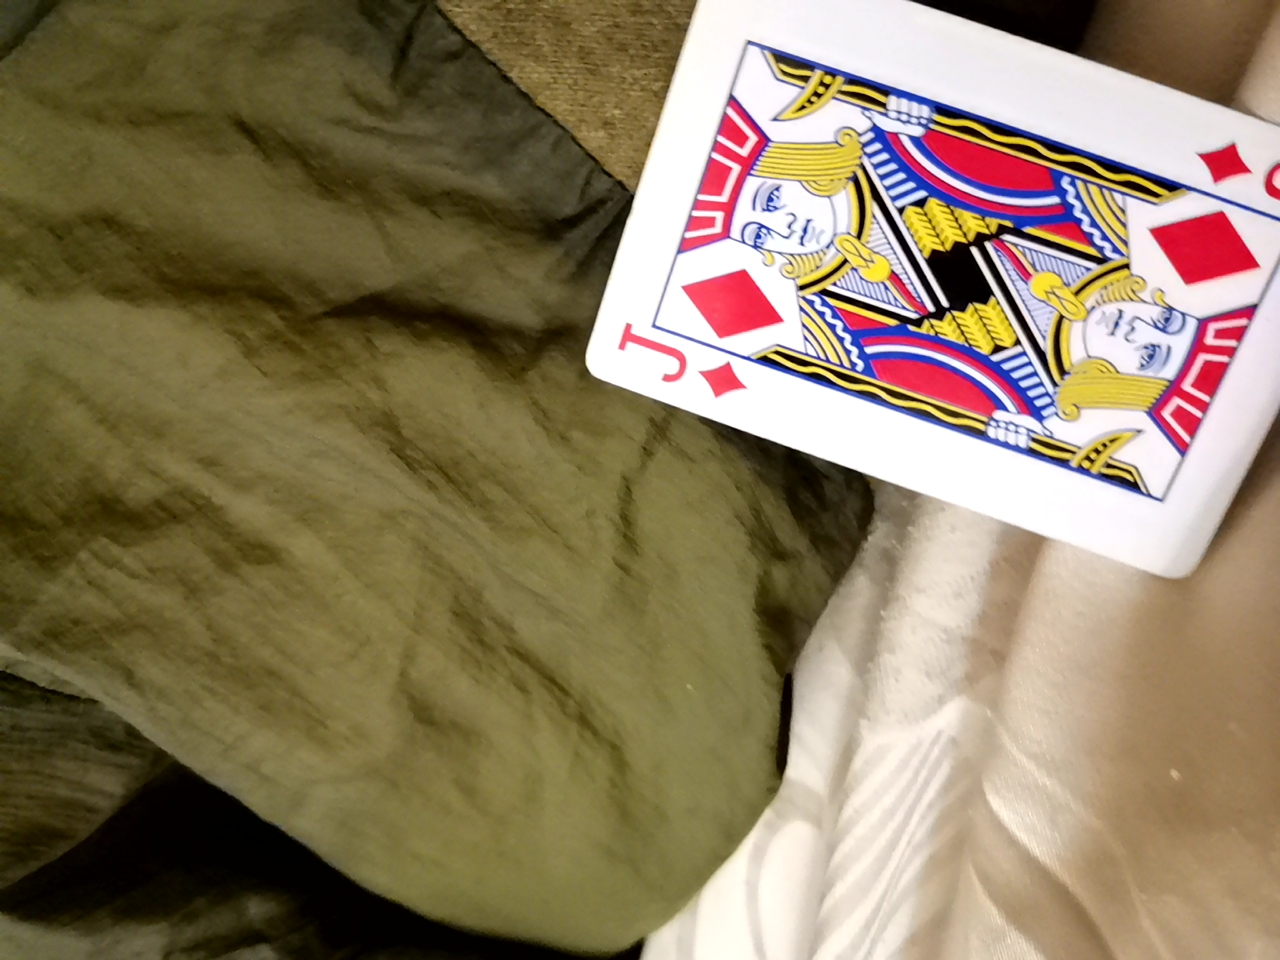fk j: (601, 5, 1280, 586)
